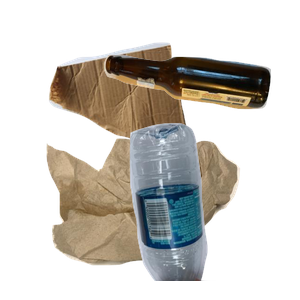cardboard: (46, 40, 226, 179)
glass: (101, 52, 300, 154)
plastic: (127, 120, 300, 300)
trash: (44, 136, 277, 300)
